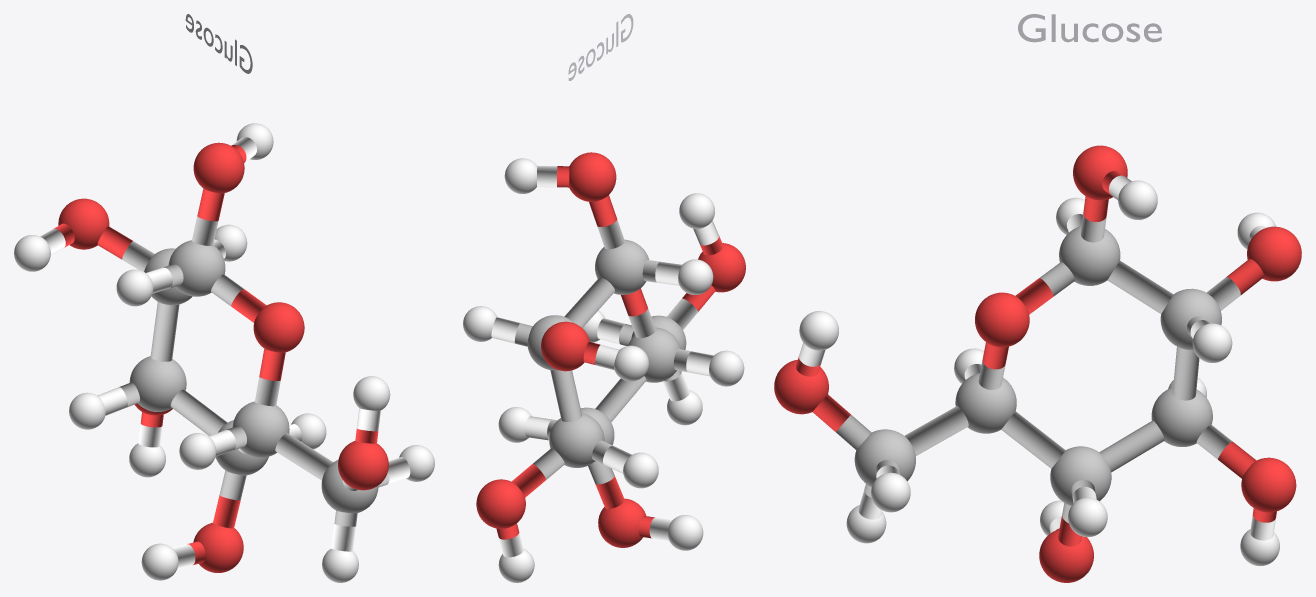
File: glucose.glb
The picture shows the model from 3 angles, left to right: view 1: azimuth 30°, elevation 25°; view 2: azimuth 150°, elevation 25°; view 3: azimuth 270°, elevation 25°; orthographic projection. The views are drawn at different scales.
Parts seen in each view (by area): view 1: Object_3.001, Object_8, Object_6.001, Object_5.002, Object_7, Object_4.002, Text.019; view 2: Object_8, Object_3.001, Object_6.001, Object_7, Object_5.002, Object_4.002, Object_2.001, Text.019; view 3: Object_3.001, Object_6.001, Object_8, Object_4.002, Object_5.002, Object_7, Object_2.001, Text.019.
Boxes of the visible parts, x1,y1,x2,y2 form: Object_3.001: (119, 240, 378, 526); Object_8: (40, 137, 434, 568); Object_6.001: (53, 145, 304, 572); Object_5.002: (58, 142, 388, 490); Object_7: (14, 123, 390, 582); Object_4.002: (122, 216, 389, 500); Text.019: (185, 14, 252, 73); Object_8: (463, 165, 744, 557); Object_3.001: (547, 239, 690, 467); Object_6.001: (476, 166, 715, 547); Object_7: (498, 158, 714, 582); Object_5.002: (541, 152, 745, 371); Object_4.002: (514, 219, 697, 484); Object_2.001: (564, 277, 614, 327); Text.019: (568, 14, 633, 80); Object_3.001: (854, 226, 1212, 505); Object_6.001: (813, 171, 1296, 582); Object_8: (799, 175, 1275, 540); Object_4.002: (836, 214, 1240, 523); Object_5.002: (774, 145, 1301, 414); Object_7: (799, 180, 1279, 566); Object_2.001: (1107, 260, 1173, 313); Text.019: (1018, 14, 1161, 42).
Bounding box in the file's own units: 6.85 × 14.19 × 11.85.
